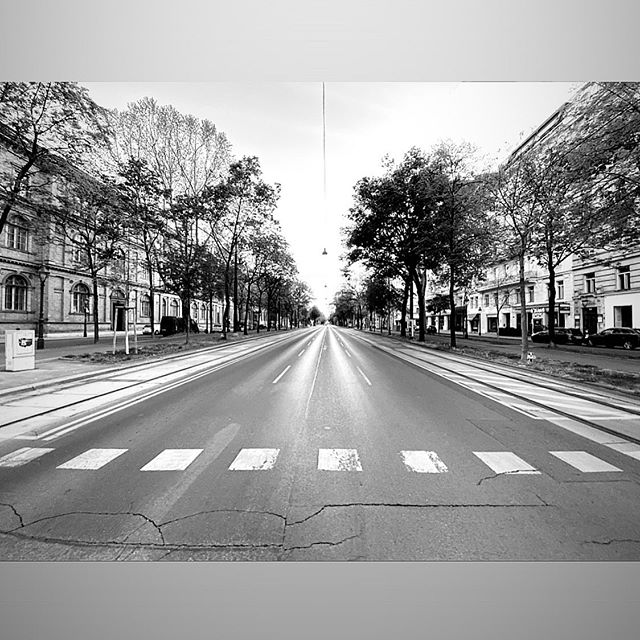building: (465, 125, 640, 336), (1, 135, 121, 348)
crosswalk: (17, 428, 639, 488)
street: (20, 334, 640, 600)
tree: (457, 138, 623, 382), (102, 100, 261, 326), (342, 155, 482, 359)
